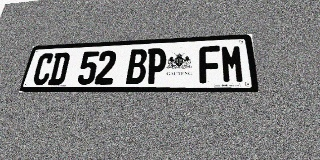2: (94, 50, 117, 85)
5: (77, 51, 100, 85)
B: (126, 49, 148, 84)
C: (31, 53, 55, 85)
D: (47, 52, 71, 85)
F: (199, 45, 221, 84)
M: (220, 44, 245, 83)
P: (145, 48, 167, 84)
